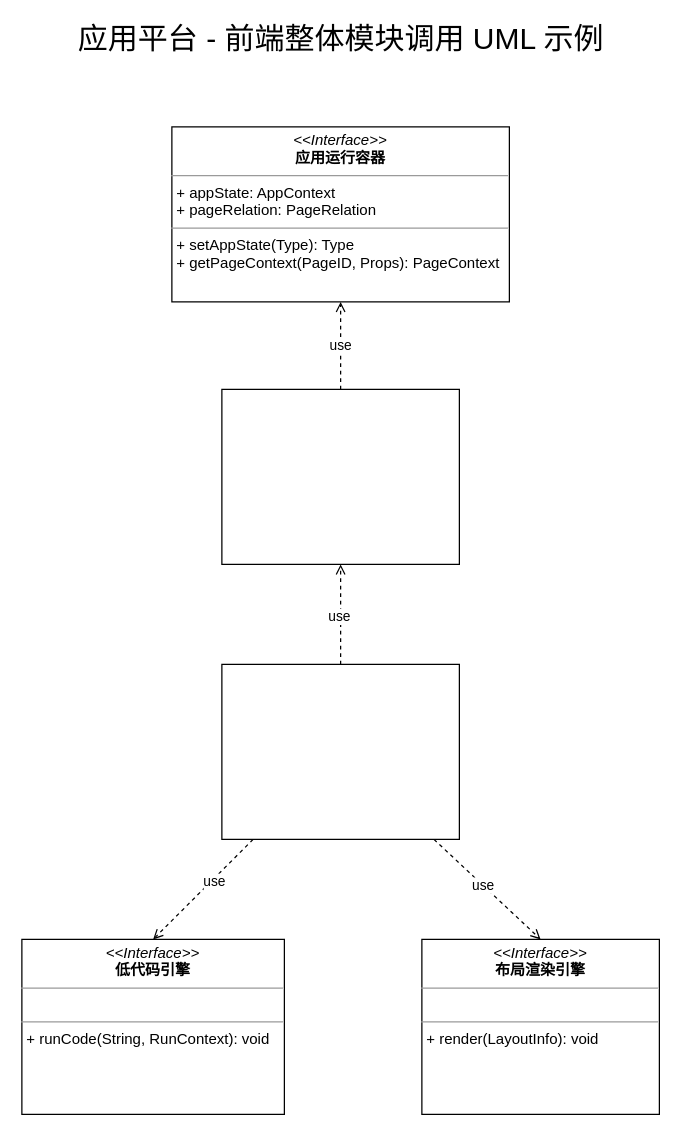
Image size: 681x1136. Some labels were removed from this diagram. Here are the shapes that lost their labels. From the top down, the centre of each, then its label:
(x=340, y=476): <<Interface>> 页面 运行容器 + pageState: PageContext + setPageState(Type): Type
(x=340, y=751): <<Interface>> IUB-DSL 运行容器 + iubState: IUBContext + setIUBState(Type): Type
